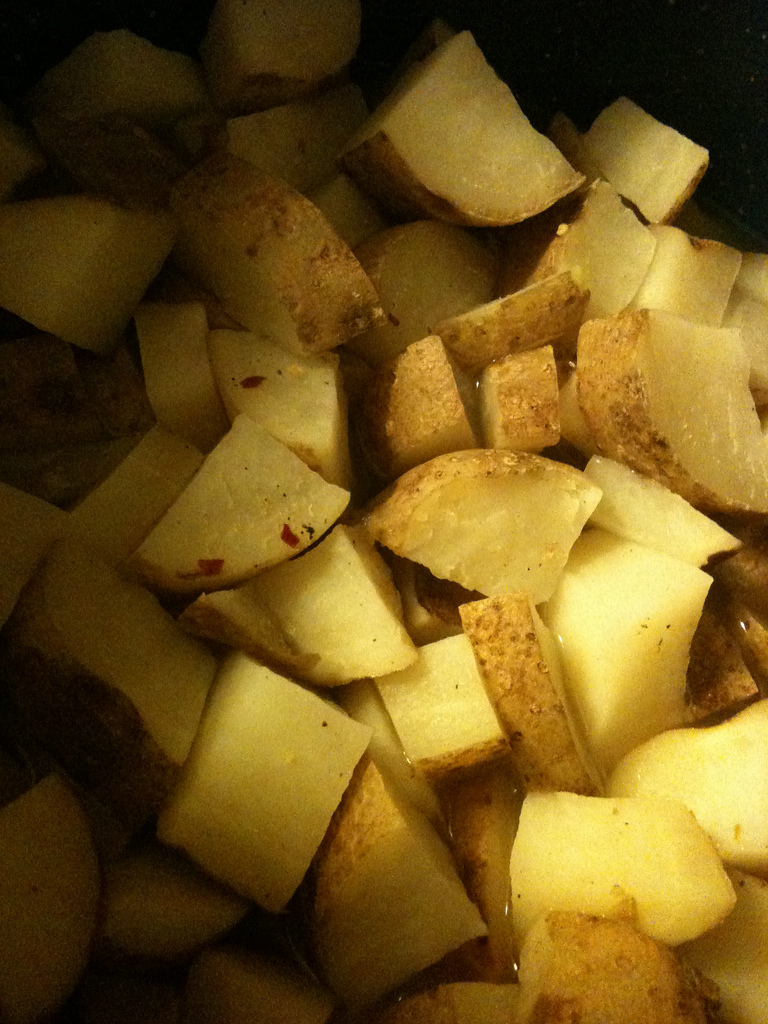boiled potatoes: (18, 78, 768, 1021)
